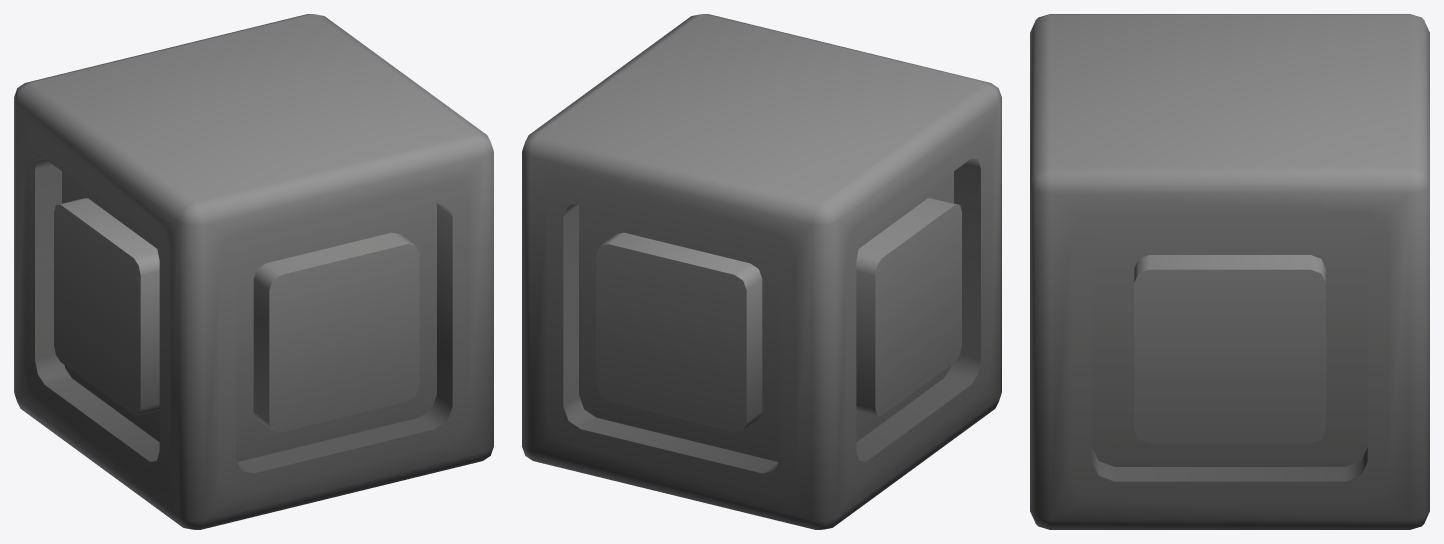
The model's file is 3D_Tile_Dungeon_03.fbx.
3 views of the same model, side by side, from view 1: azimuth 30°, elevation 25°; view 2: azimuth 150°, elevation 25°; view 3: azimuth 270°, elevation 25° (orthographic). The views are drawn at different scales.
Parts seen in each view (by area): view 1: 3D_Tile_Dungeon_03; view 2: 3D_Tile_Dungeon_03; view 3: 3D_Tile_Dungeon_03.
Boxes of the visible parts, box(x1,y1,x2,y2) form: 3D_Tile_Dungeon_03: box(14, 14, 493, 529); 3D_Tile_Dungeon_03: box(522, 14, 1001, 529); 3D_Tile_Dungeon_03: box(1030, 14, 1429, 529).
Size of the model in its own units: 200 by 200 by 200.
